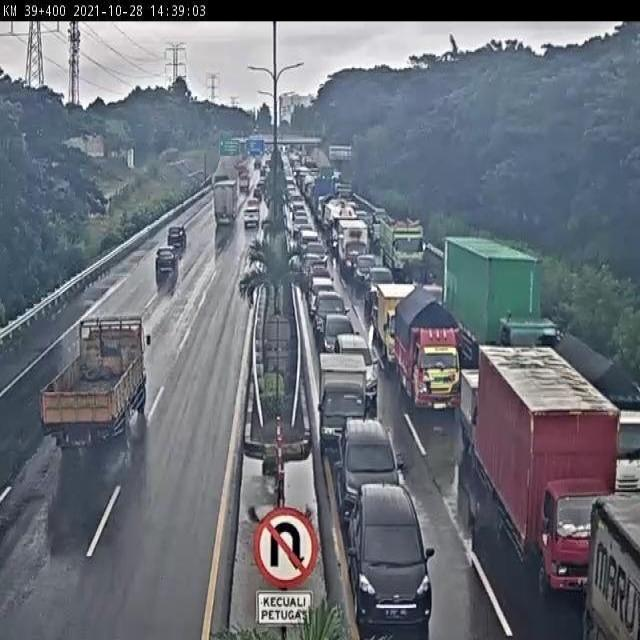Car: (345, 483, 433, 637), (334, 420, 406, 523), (333, 330, 382, 406), (318, 311, 361, 359), (312, 290, 351, 337), (305, 274, 338, 317), (365, 264, 394, 307), (304, 262, 336, 298), (402, 256, 437, 286), (353, 254, 379, 286), (155, 245, 180, 278), (167, 225, 187, 258), (299, 252, 327, 273), (303, 242, 329, 264), (299, 229, 319, 252), (244, 205, 260, 229), (253, 188, 262, 202)
Truck: (476, 337, 625, 603), (39, 313, 150, 448), (554, 330, 640, 490), (443, 236, 541, 350), (389, 287, 465, 412), (580, 491, 640, 640), (317, 352, 369, 446), (370, 283, 418, 374), (379, 215, 426, 280), (458, 367, 486, 457), (333, 216, 369, 278), (322, 198, 357, 245), (214, 180, 239, 224), (312, 170, 340, 209), (336, 180, 352, 200), (238, 172, 250, 191)
